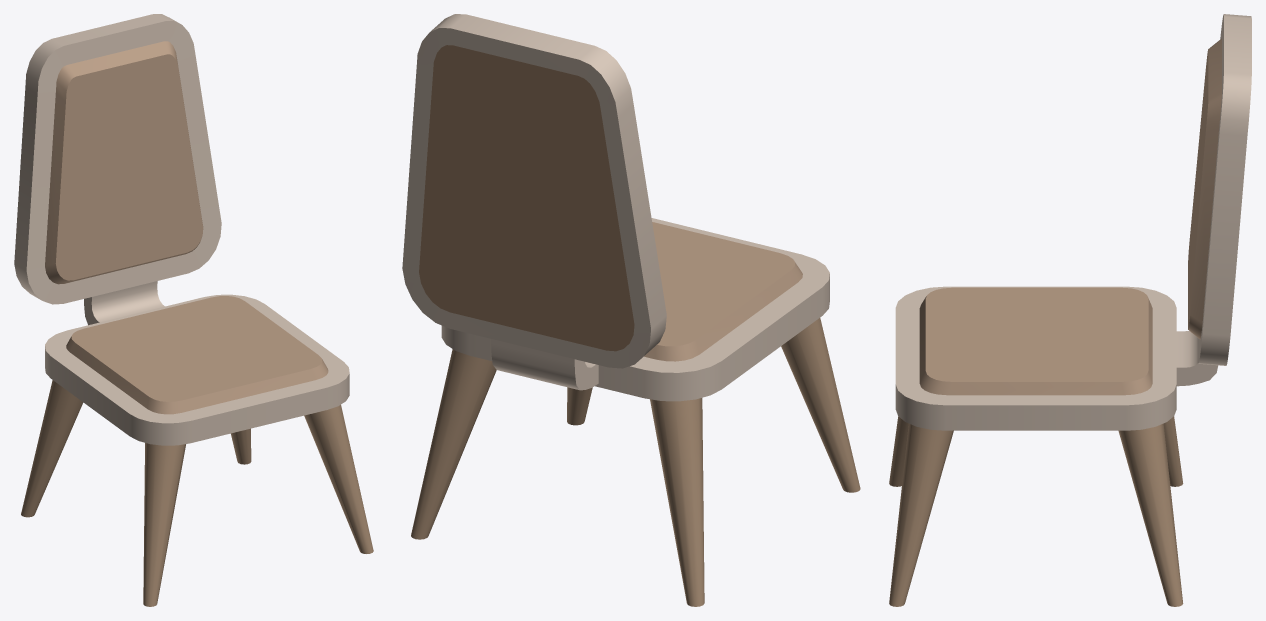
Rendered from Chair B.fbx.
The picture shows the model from 3 angles, left to right: view 1: azimuth 30°, elevation 25°; view 2: azimuth 150°, elevation 25°; view 3: azimuth 270°, elevation 25°; orthographic projection. The views are drawn at different scales.
Parts seen in each view (by area): view 1: Cylinder.003; view 2: Cylinder.003; view 3: Cylinder.003.
Boxes of the visible parts, x1=… form: Cylinder.003: x1=14, y1=14, x2=373, y2=606; Cylinder.003: x1=402, y1=14, x2=860, y2=606; Cylinder.003: x1=889, y1=14, x2=1251, y2=606.
Bounding box in the file's own units: 0.9346 × 1.71 × 1.13.
